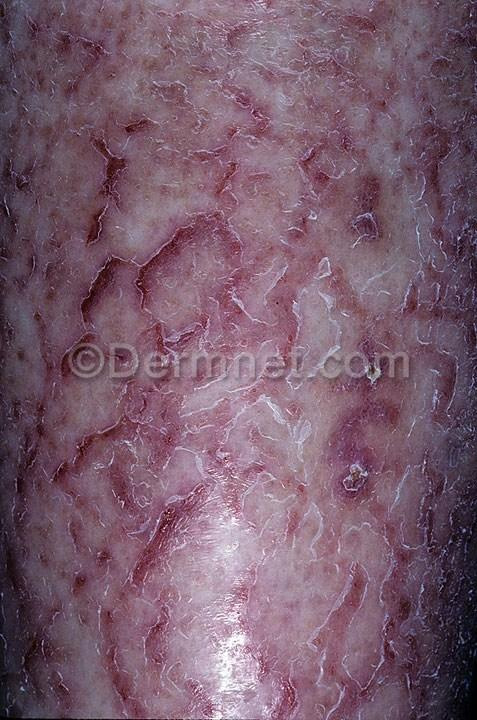Eczema: (0, 0, 355, 319), (0, 331, 308, 608), (346, 0, 477, 338), (350, 336, 477, 645), (88, 621, 339, 720)
